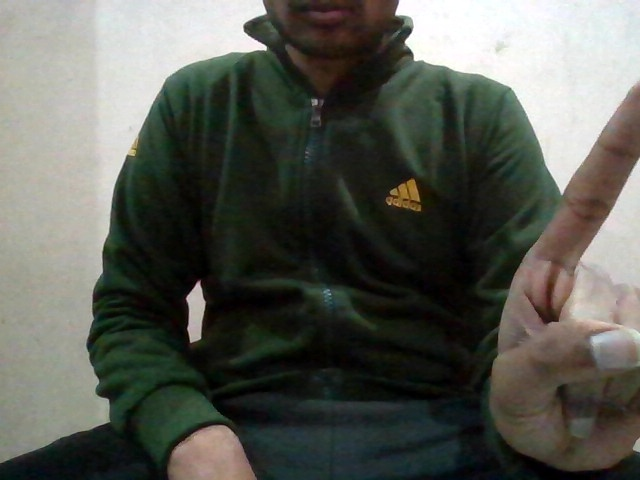D: (483, 69, 640, 480)
